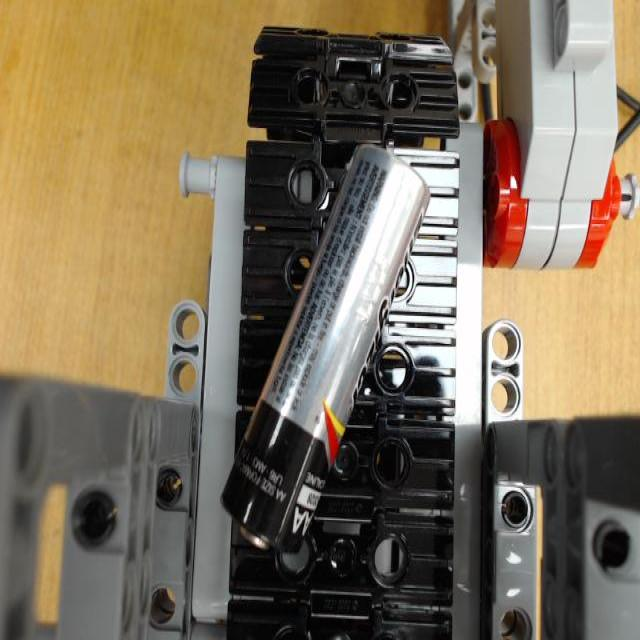AA: (220, 141, 431, 556)
